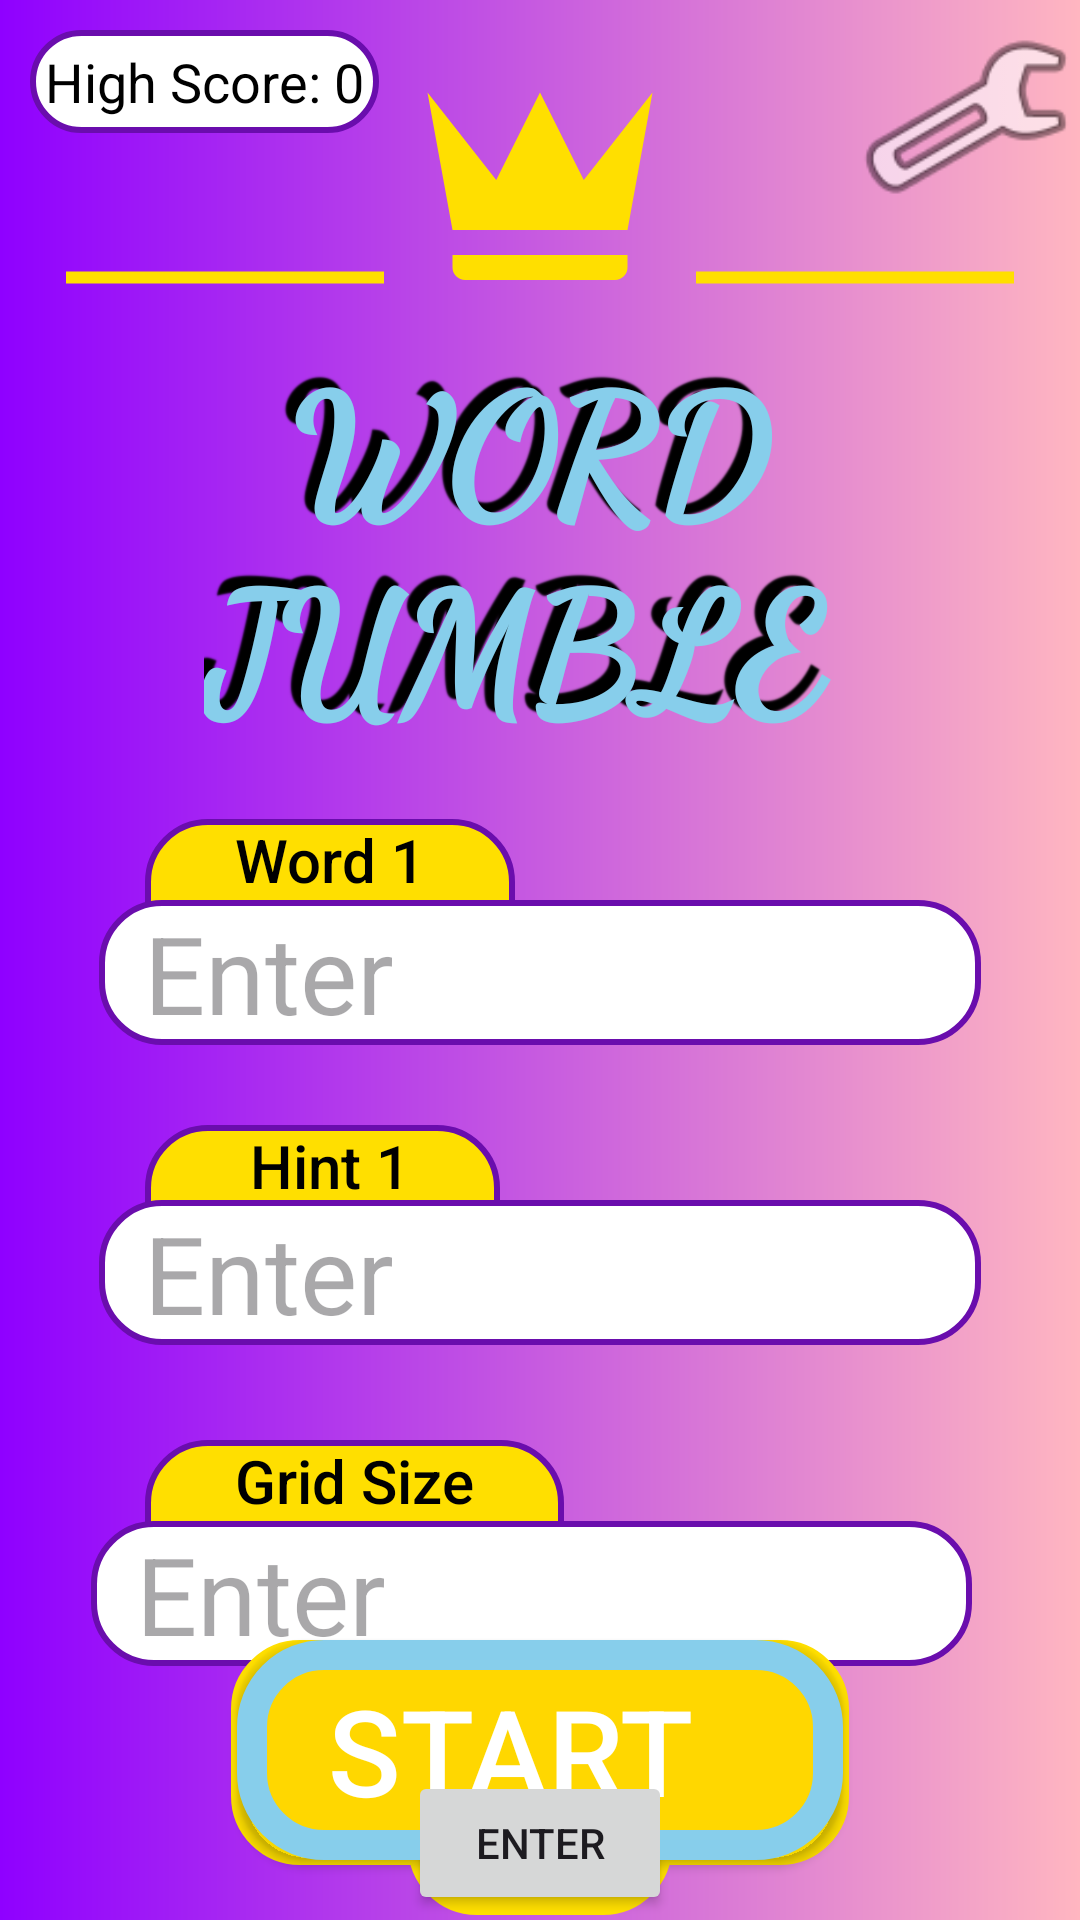

Where to tap for icons on this 1080px x 1920px app screen, as point (x, y):
crown: point (540, 180)
manage: point (973, 117)
